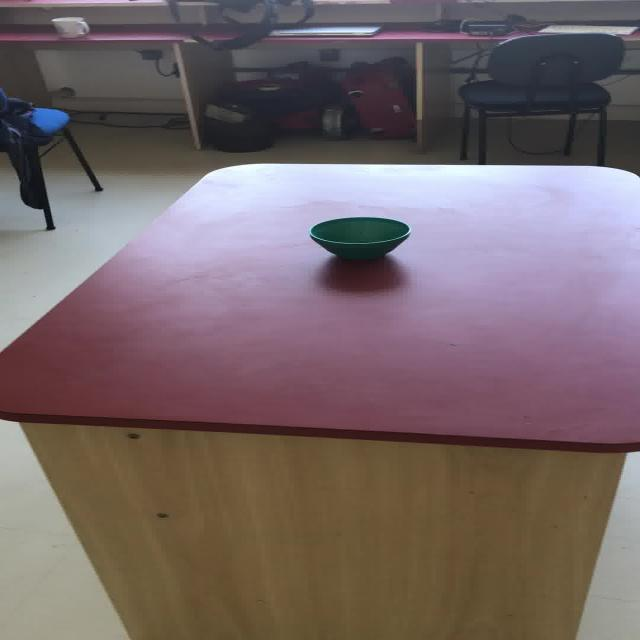bowl: (307, 216, 411, 259)
